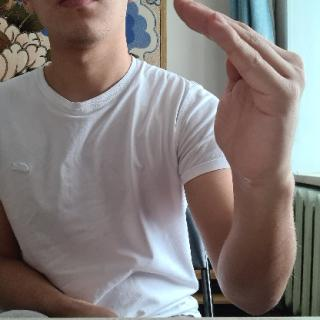HAA: (174, 0, 309, 191)
